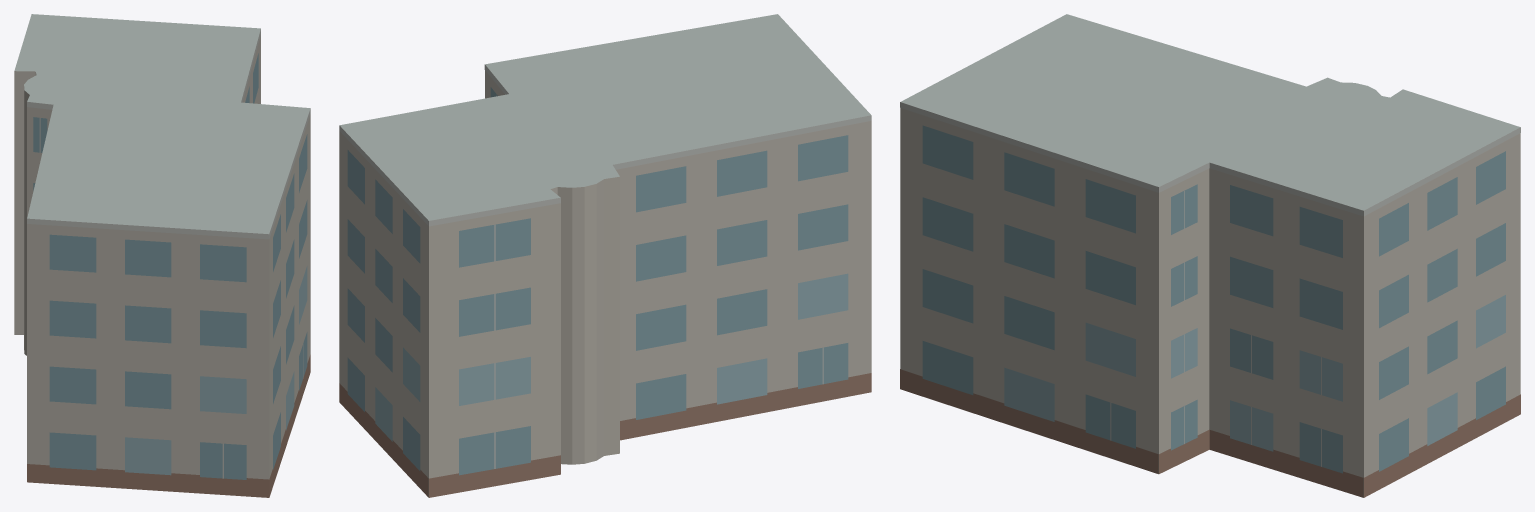
The model's file is survey-upis-33019330.glb.
The picture shows the model from 3 angles, left to right: view 1: azimuth 30°, elevation 25°; view 2: azimuth 150°, elevation 25°; view 3: azimuth 270°, elevation 25°; orthographic projection. The views are drawn at different scales.
Visible parts, largest first — view 1: survey-upis-33019330.tmp; view 2: survey-upis-33019330.tmp; view 3: survey-upis-33019330.tmp.
Part boxes in pixels (left/top/right/bottom): survey-upis-33019330.tmp: left=14, top=14, right=310, bottom=497; survey-upis-33019330.tmp: left=339, top=14, right=871, bottom=497; survey-upis-33019330.tmp: left=900, top=14, right=1520, bottom=497.
Bounding box in the file's own units: 17.94 × 12.2 × 23.91.
